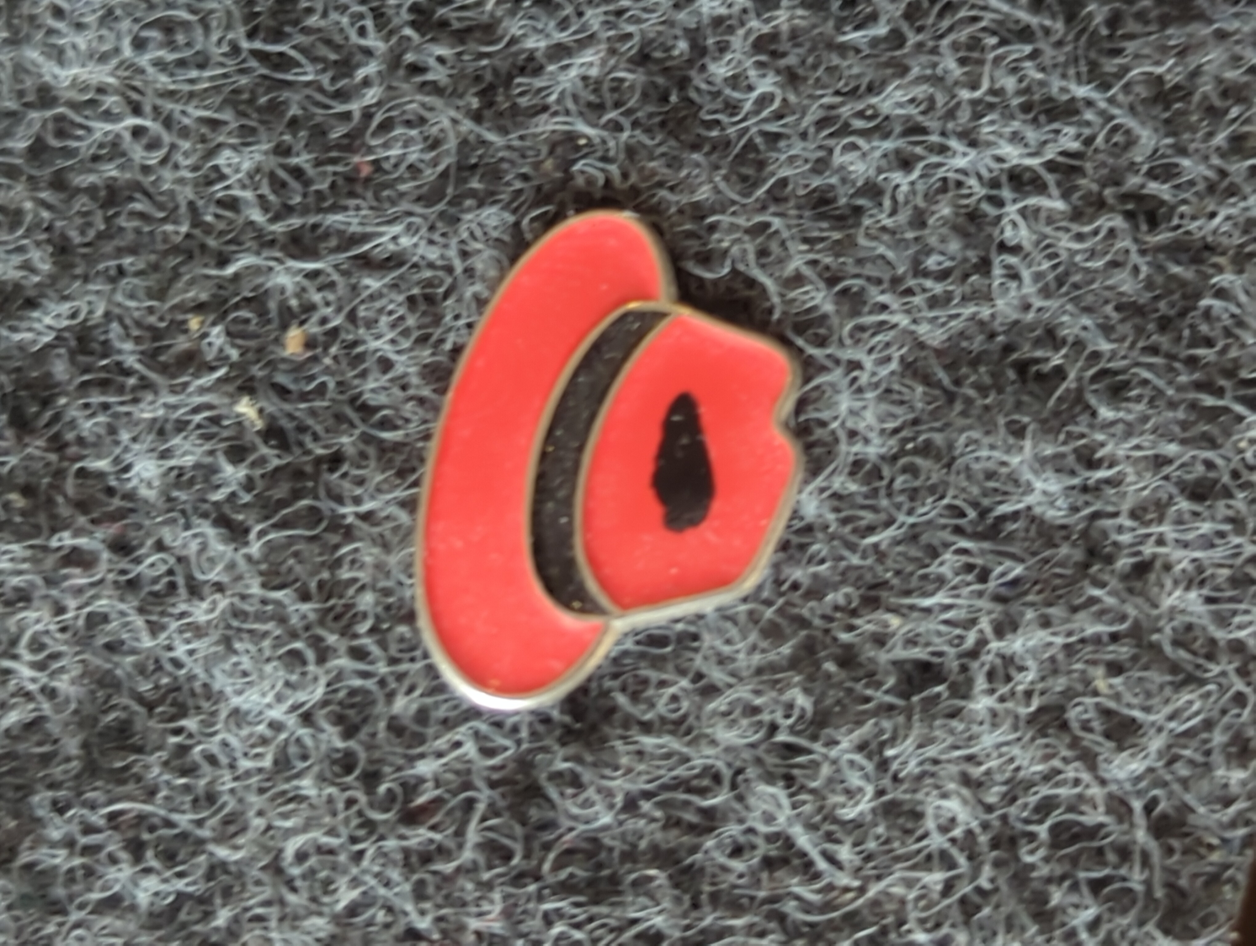Red-Hat: (291, 108, 1014, 831)
Scratch: (624, 349, 746, 557)
